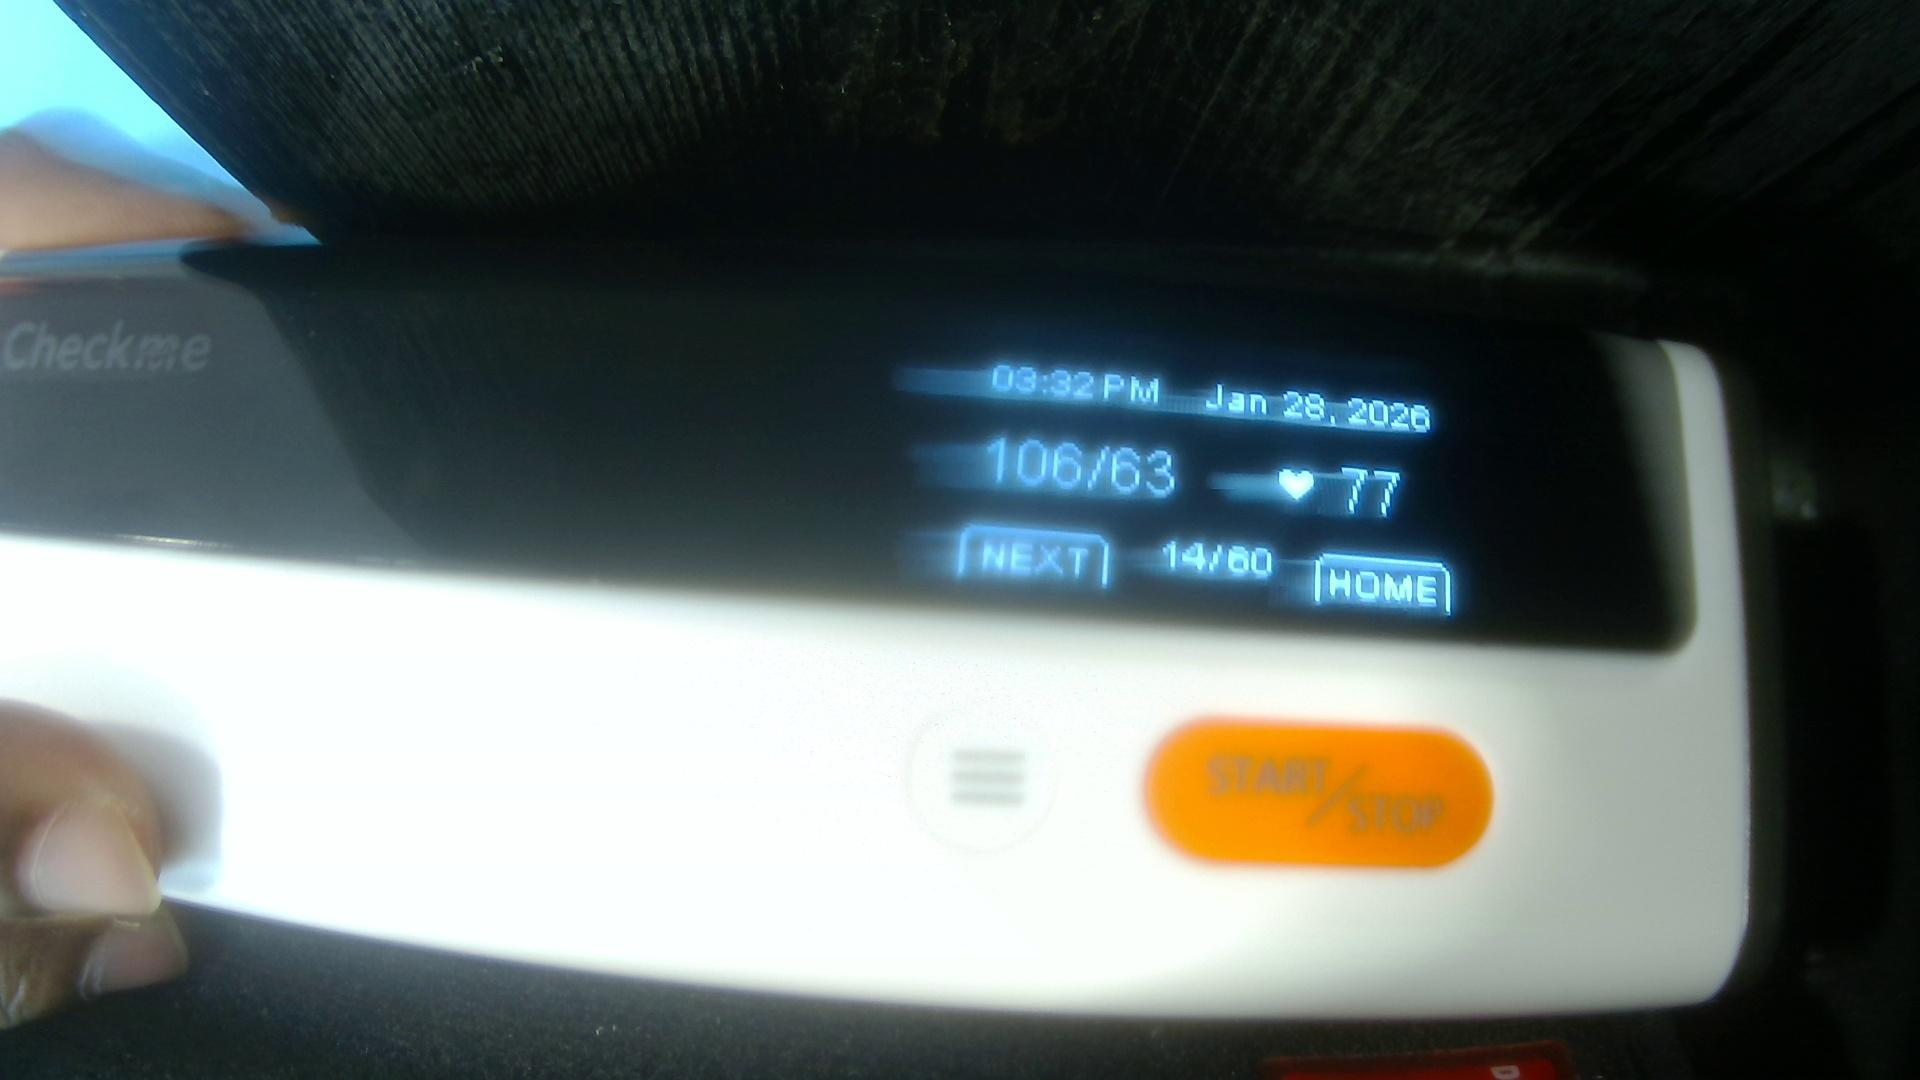DISPLAY: (11, 248, 1681, 651)
